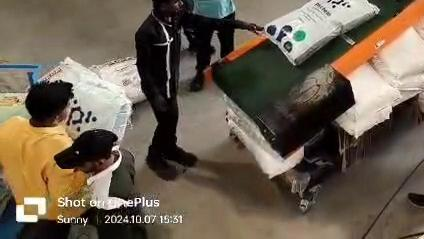box: (267, 0, 378, 65)
